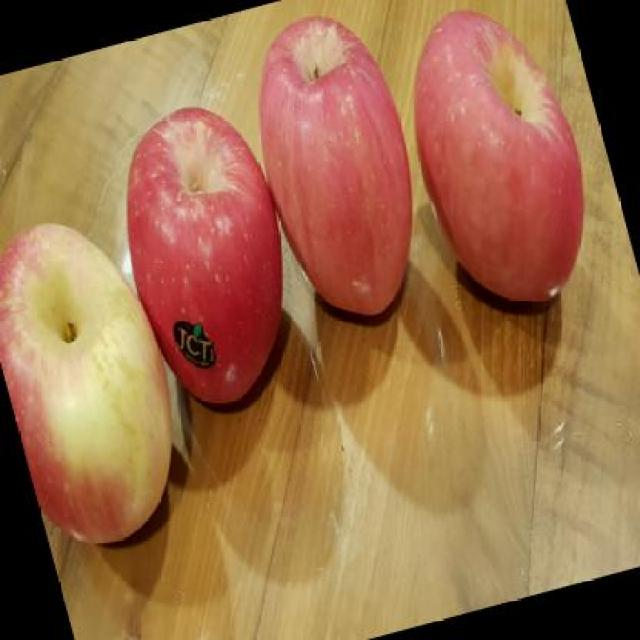Fresh Apple: (0, 218, 178, 559), (400, 22, 600, 315), (113, 104, 294, 420), (247, 17, 428, 327)
